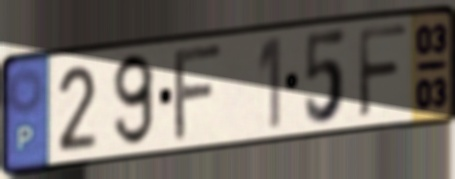1: (253, 34, 283, 136)
2: (55, 63, 101, 156)
5: (302, 24, 352, 129)
9: (110, 51, 158, 151)
F: (170, 41, 227, 146), (356, 21, 411, 122)
